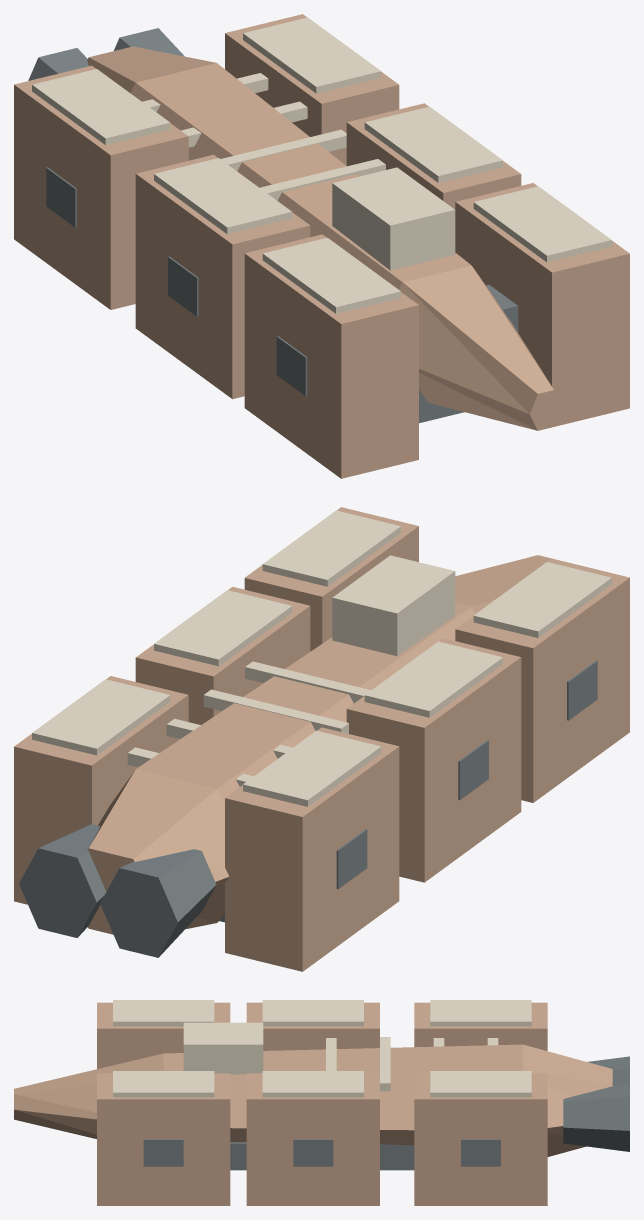
The picture shows the model from 3 angles, top to bottom: view 1: azimuth 30°, elevation 25°; view 2: azimuth 150°, elevation 25°; view 3: azimuth 270°, elevation 25°; orthographic projection. The views are drawn at different scales.
Size of the model in its own units: 3.35 by 1.97 by 8.89.
